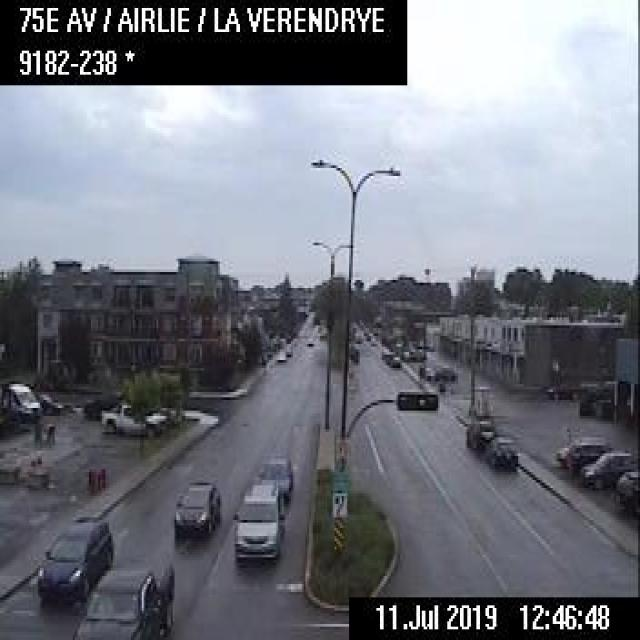construction: (89, 467, 96, 492), (98, 466, 105, 488), (95, 468, 100, 489), (87, 466, 90, 486)
vehicle: (67, 561, 175, 637), (31, 512, 111, 600), (229, 477, 286, 568), (172, 478, 222, 536), (99, 400, 165, 437), (580, 448, 638, 486), (254, 452, 292, 502), (550, 438, 610, 465), (0, 379, 40, 416), (462, 404, 494, 449), (606, 469, 638, 512), (483, 434, 518, 470), (542, 380, 585, 400), (34, 390, 62, 414), (428, 364, 457, 382), (273, 347, 285, 360), (382, 350, 393, 362), (389, 354, 400, 366), (282, 342, 291, 356), (304, 337, 312, 346)
